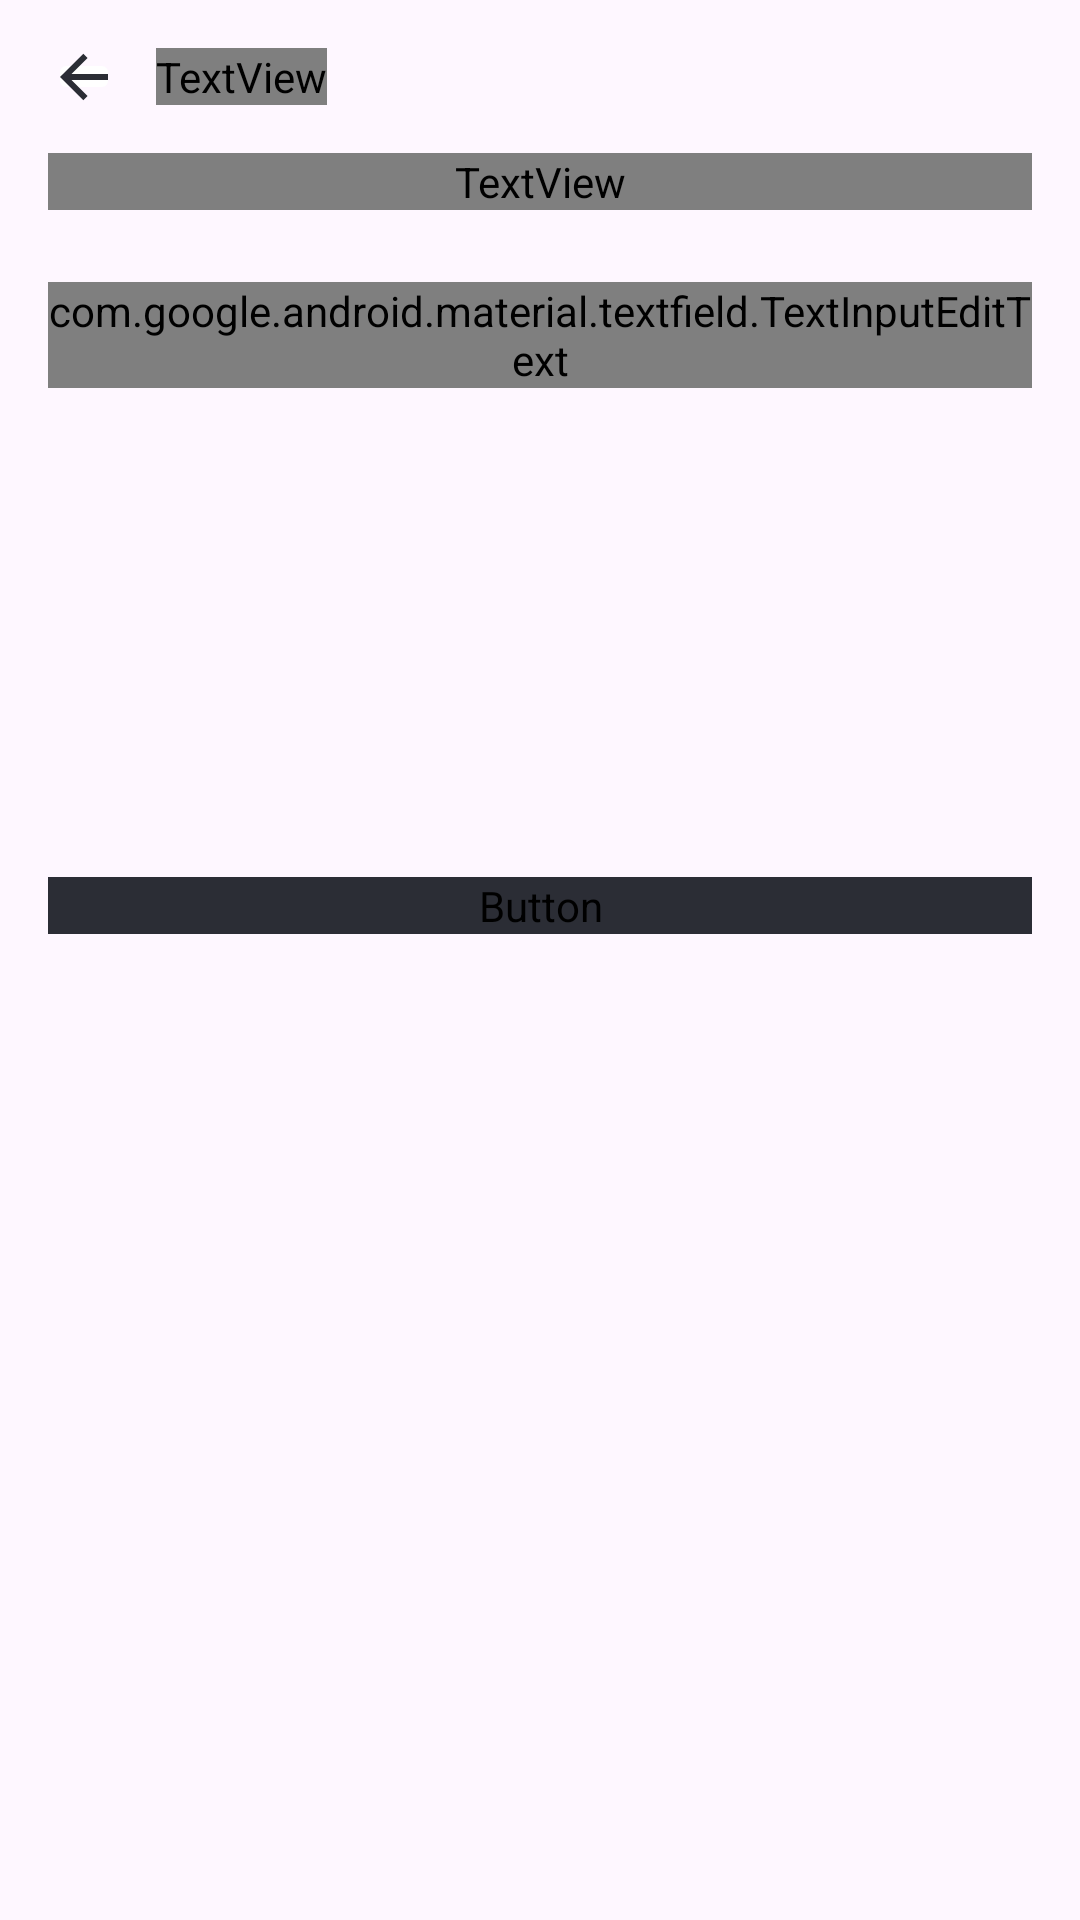

Where to tap for icons on this 1080px×1920px app screen, as (x=x, y=y):
arrow left: (x=84, y=77)
